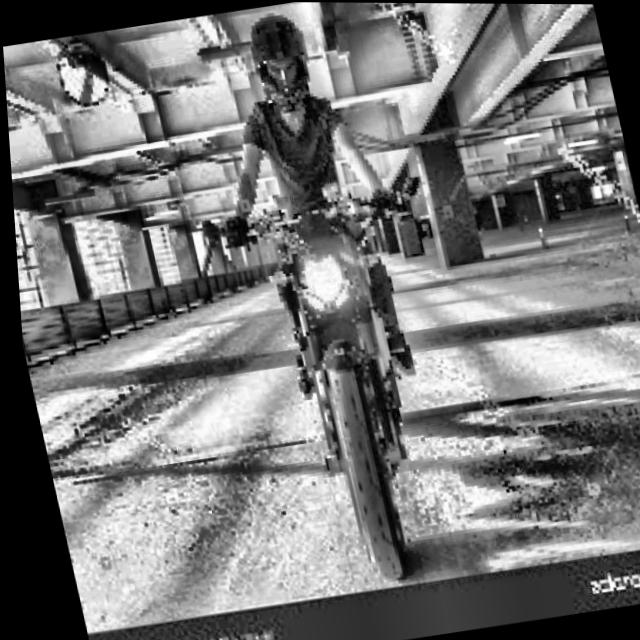motorcycle: (180, 152, 490, 595)
